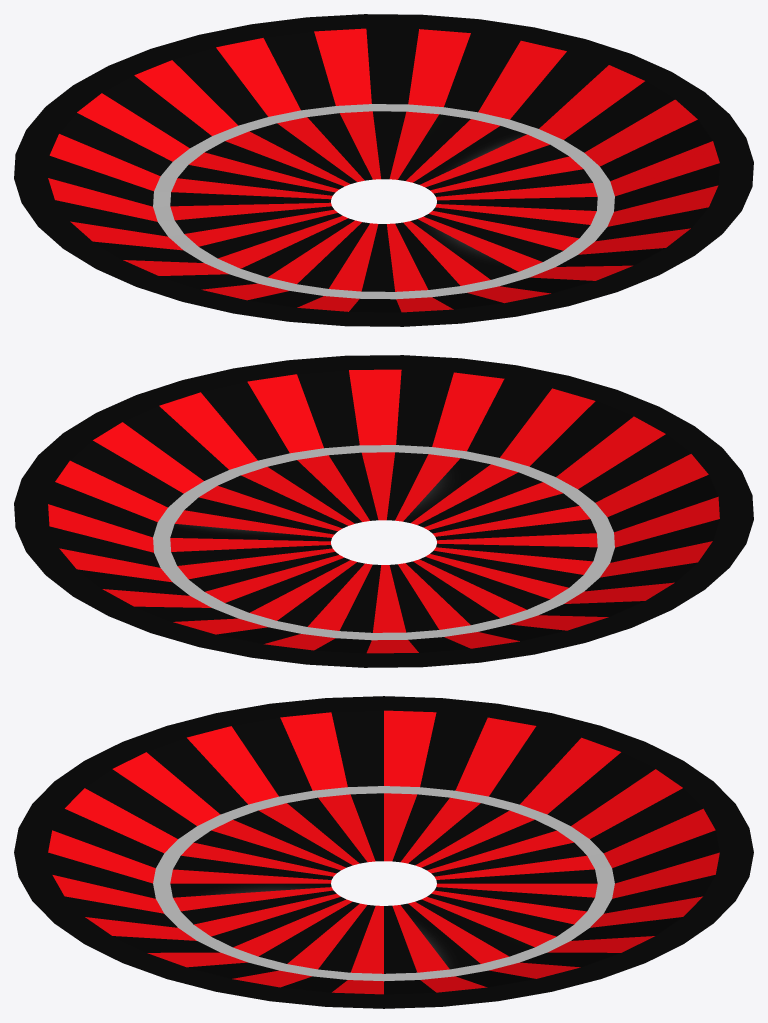
File: Roleta_certa.fbx
3 views of the same model, one above another, from view 1: azimuth 30°, elevation 25°; view 2: azimuth 150°, elevation 25°; view 3: azimuth 270°, elevation 25° (orthographic).
Visible parts, largest first — view 1: Circle.002; view 2: Circle.002; view 3: Circle.002.
Boxes of the visible parts, box(x1,y1,x2,y2) form: Circle.002: box(14, 14, 753, 326); Circle.002: box(14, 355, 753, 667); Circle.002: box(14, 696, 753, 1008).
Bounding box in the file's own units: 464 × 21.48 × 464.
1 material, 1 textured.
